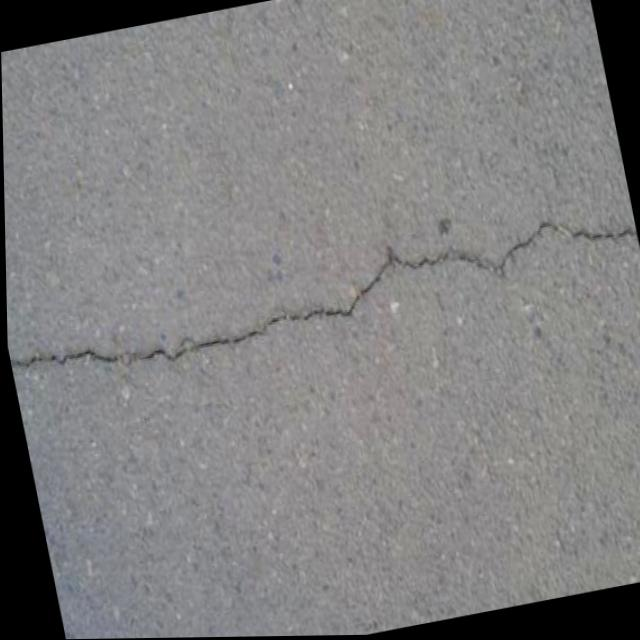Crack: (3, 175, 640, 401)
